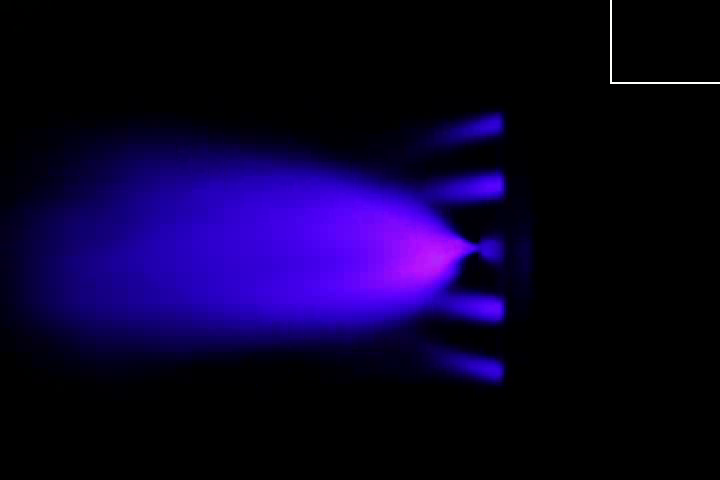burner cap: (483, 230, 505, 264)
pilot flame: (416, 344, 502, 387), (407, 110, 503, 147), (415, 168, 507, 203), (435, 291, 507, 327)
unstable: (333, 207, 484, 301)
